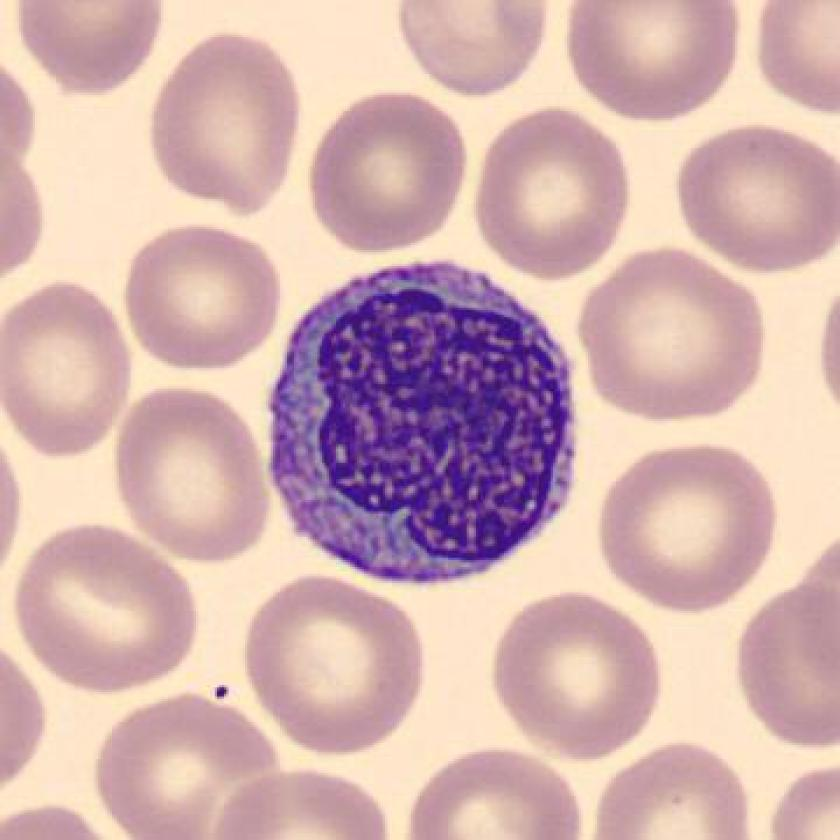monocyte: (253, 247, 598, 608)
